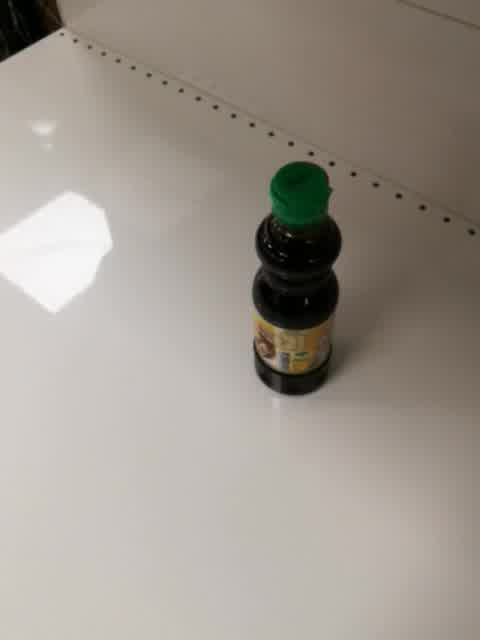cookingoil: (247, 159, 349, 398)
